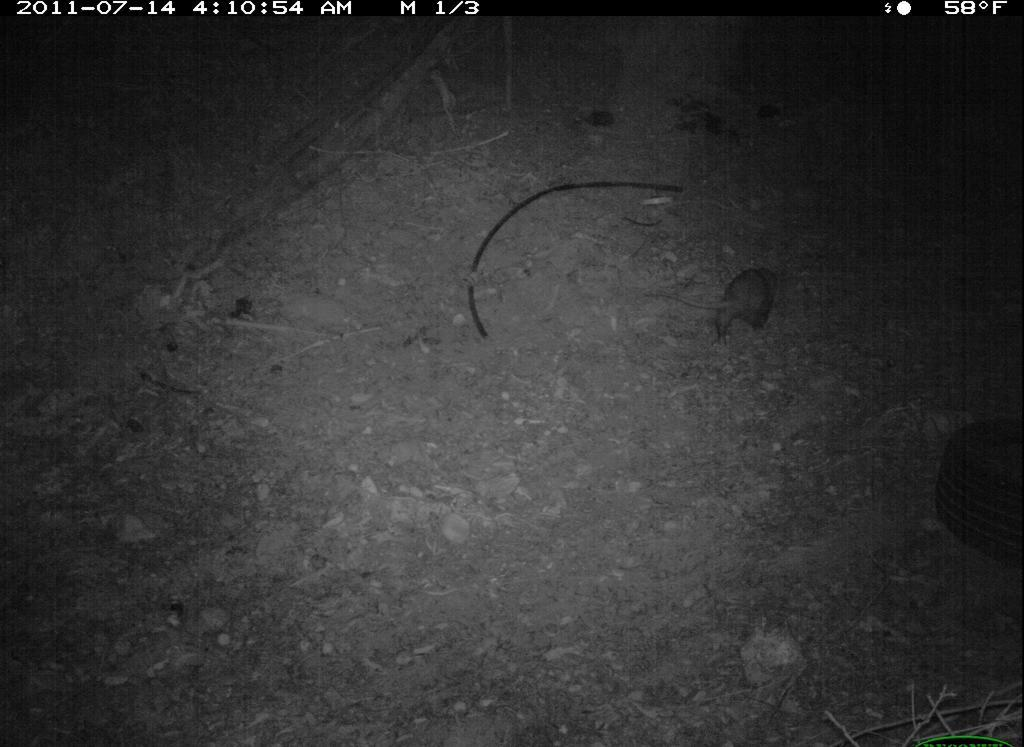opossum: (647, 254, 793, 350)
